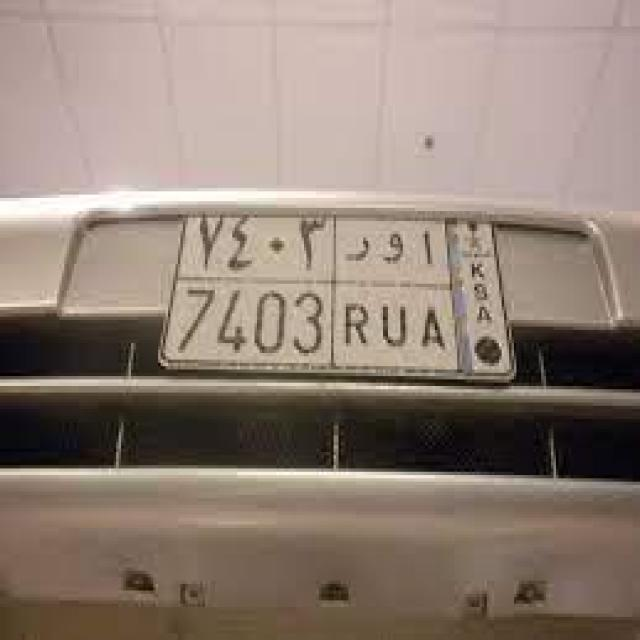license_plate: (134, 178, 506, 406)
